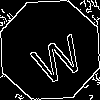W: (25, 25, 88, 87)
